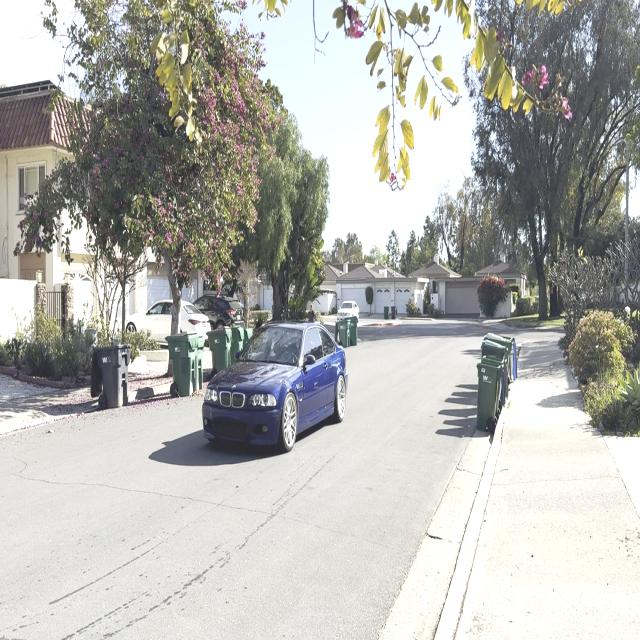Carbeetle: (198, 311, 359, 462)
